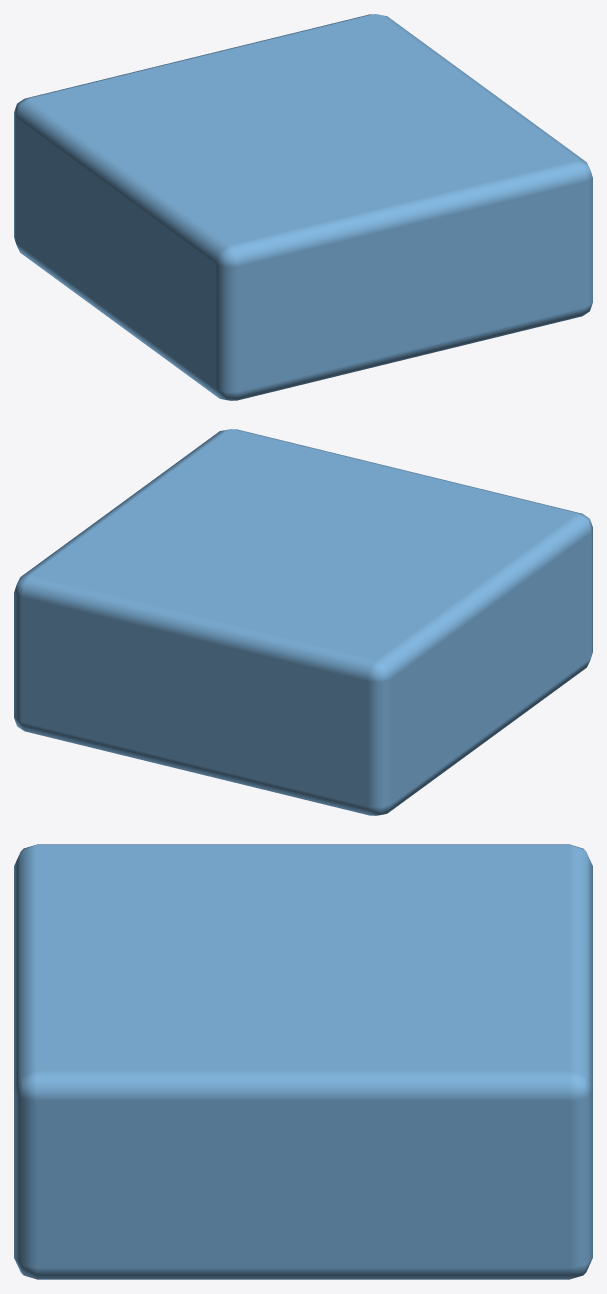
The model's file is cube_with_river.01.glb.
3 views of the same model, one above another, from view 1: azimuth 30°, elevation 25°; view 2: azimuth 150°, elevation 25°; view 3: azimuth 270°, elevation 25° (orthographic). The views are drawn at different scales.
Parts seen in each view (by area): view 1: Cube.256; view 2: Cube.256; view 3: Cube.256.
Boxes of the visible parts, x1=… form: Cube.256: x1=14, y1=14, x2=592, y2=400; Cube.256: x1=14, y1=429, x2=592, y2=815; Cube.256: x1=14, y1=844, x2=592, y2=1279.
Bounding box in the file's own units: 1 × 0.3972 × 1.
1 material, 1 textured.
